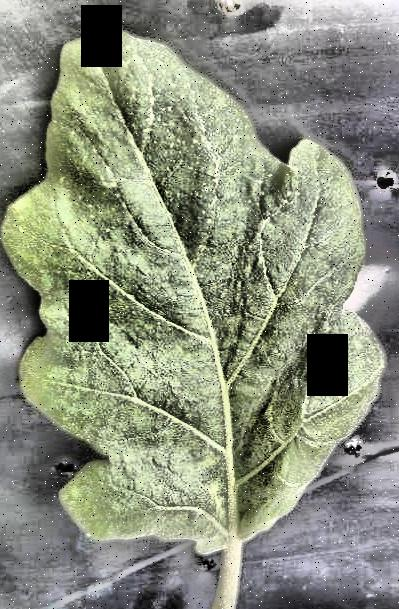HEALTHY: (1, 0, 399, 609)
